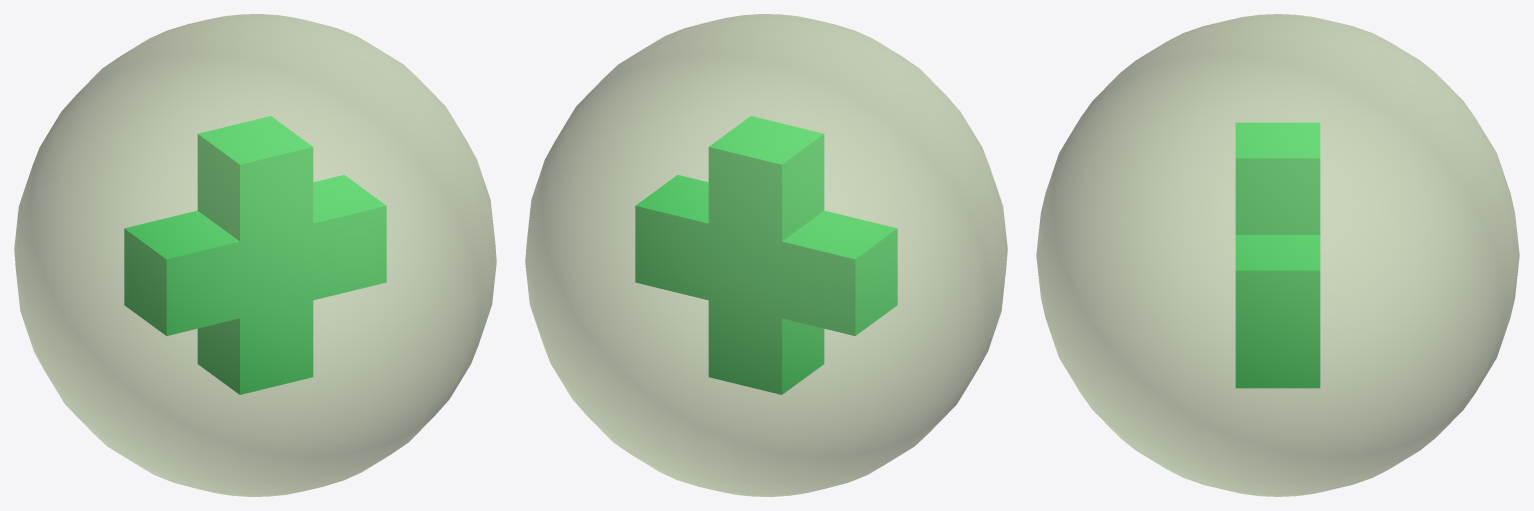
The model's file is HpBuff.fbx.
3 views of the same model, side by side, from view 1: azimuth 30°, elevation 25°; view 2: azimuth 150°, elevation 25°; view 3: azimuth 270°, elevation 25° (orthographic).
Visible parts, largest first — view 1: Sphere.001, Cube.005; view 2: Sphere.001, Cube.005; view 3: Sphere.001, Cube.005.
Boxes of the visible parts, bbox=[...] form: Sphere.001: bbox=[14, 14, 496, 496]; Cube.005: bbox=[124, 116, 386, 394]; Sphere.001: bbox=[525, 14, 1007, 496]; Cube.005: bbox=[635, 116, 897, 394]; Sphere.001: bbox=[1036, 14, 1519, 496]; Cube.005: bbox=[1235, 122, 1320, 388].
Size of the model in its own units: 1142 by 1142 by 1142.
